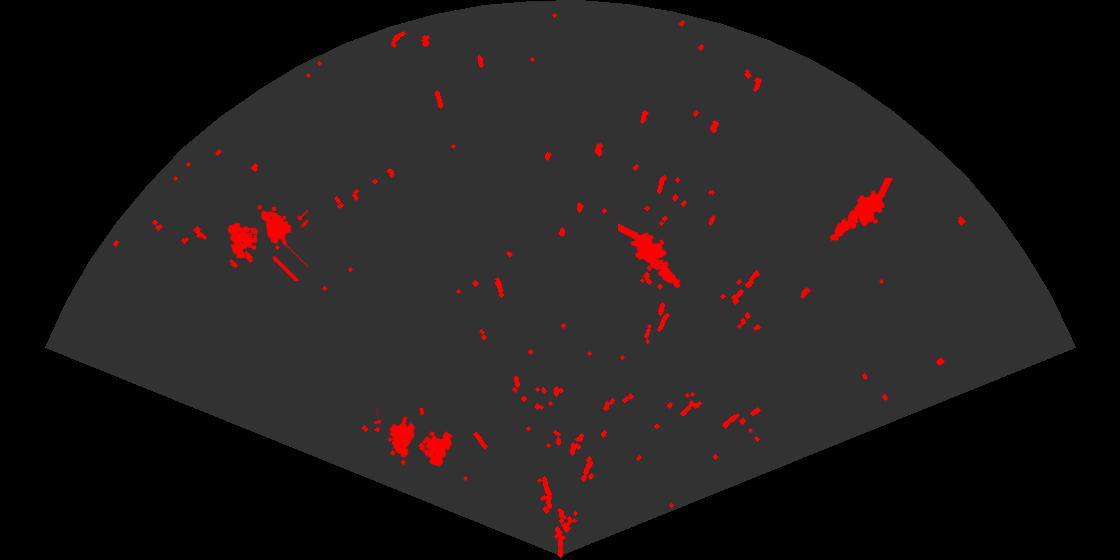cage: (226, 203, 308, 281), (374, 408, 454, 468)
frogman: (618, 222, 682, 290), (828, 178, 894, 243)
